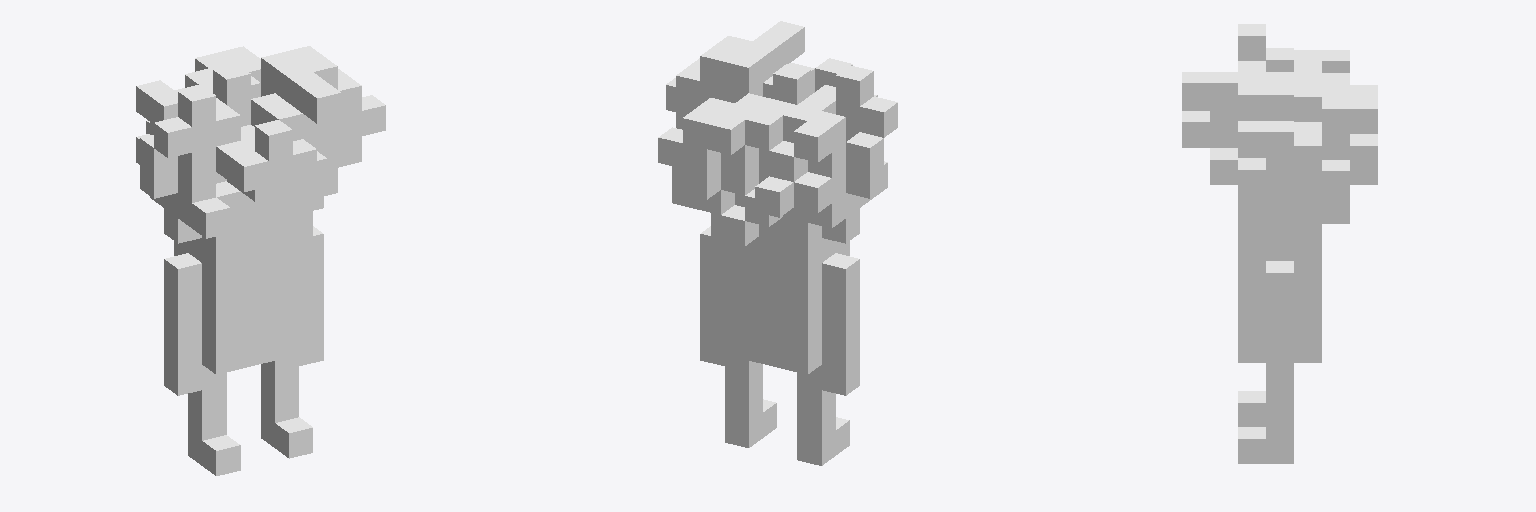
Rendered from Girl4-1.obj.
The picture shows the model from 3 angles: view 1: azimuth 30°, elevation 25°; view 2: azimuth 150°, elevation 25°; view 3: azimuth 270°, elevation 25°; orthographic projection.
Visible parts, largest first — view 1: Girl4-1; view 2: Girl4-1; view 3: Girl4-1.
Boxes of the visible parts, box(x1,y1,x2,y2) form: Girl4-1: box(136, 46, 385, 475); Girl4-1: box(658, 21, 897, 465); Girl4-1: box(1182, 24, 1377, 463).
Size of the model in its own units: 9 by 15 by 7.